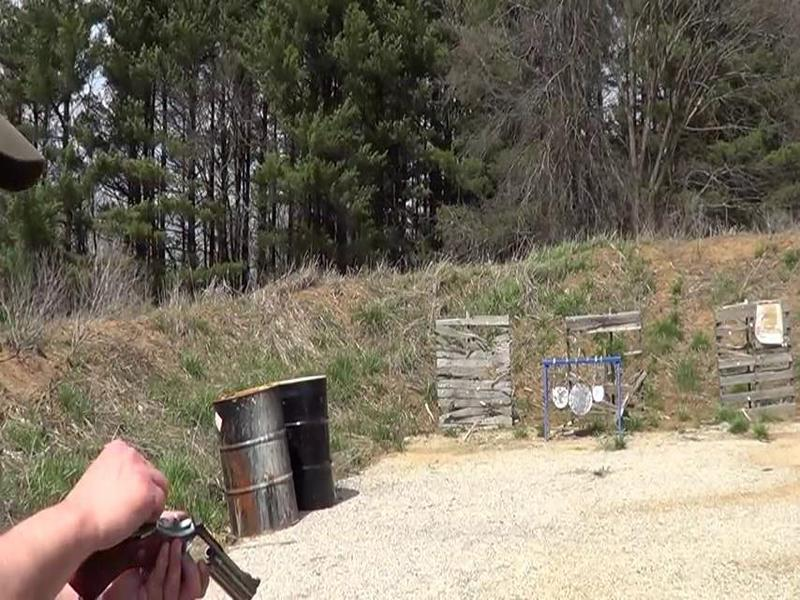Revolver: (88, 505, 267, 592)
